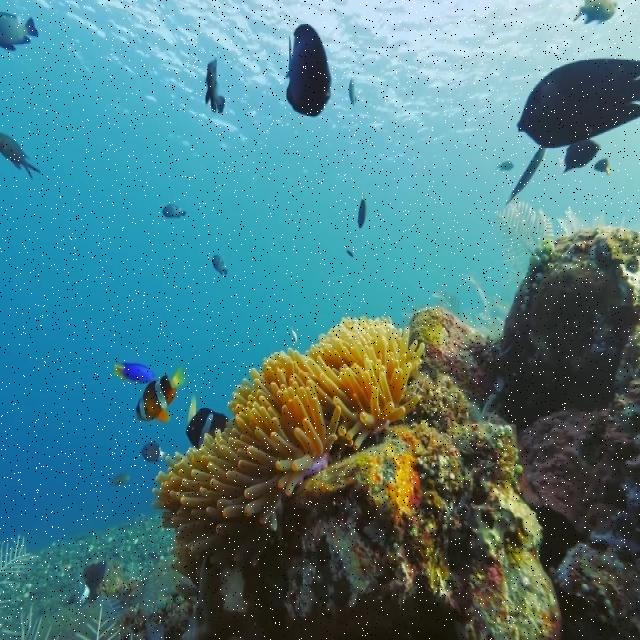fish: (517, 58, 639, 148), (285, 23, 332, 117), (135, 368, 184, 424), (505, 148, 546, 204), (186, 395, 229, 448), (0, 134, 40, 178), (0, 14, 39, 51), (563, 140, 600, 174), (206, 56, 226, 115), (572, 0, 619, 24), (113, 362, 154, 383), (140, 444, 165, 462), (212, 254, 228, 275), (162, 204, 186, 217), (108, 474, 130, 488), (593, 157, 611, 174), (358, 197, 366, 229), (349, 80, 358, 107), (497, 161, 514, 170), (347, 249, 353, 258)
reefs: (151, 316, 424, 575)
sea-floor: (0, 224, 639, 638)
